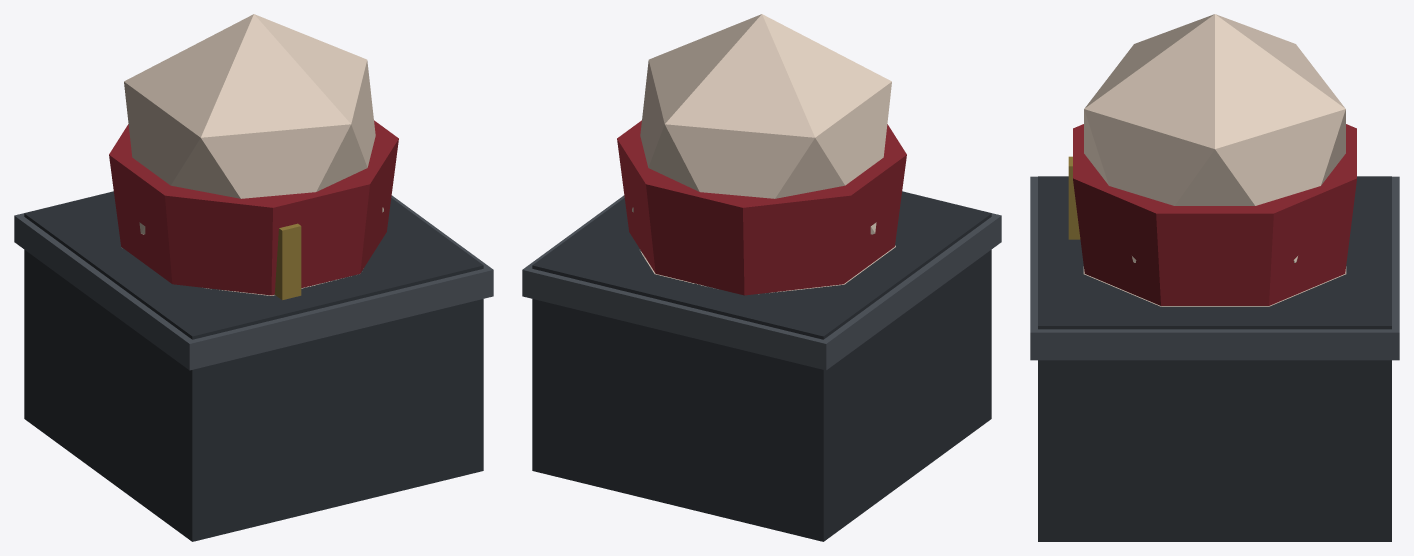
File: inf_runner_lower_leg.fbx
The picture shows the model from 3 angles, left to right: view 1: azimuth 30°, elevation 25°; view 2: azimuth 150°, elevation 25°; view 3: azimuth 270°, elevation 25°; orthographic projection. The views are drawn at different scales.
Parts seen in each view (by area): view 1: inf_runner_lower_leg; view 2: inf_runner_lower_leg; view 3: inf_runner_lower_leg.
Part boxes in pixels (x1=…): inf_runner_lower_leg: x1=14, y1=14, x2=493, y2=541; inf_runner_lower_leg: x1=522, y1=14, x2=1001, y2=541; inf_runner_lower_leg: x1=1030, y1=14, x2=1399, y2=541.
Bounding box in the file's own units: 96 × 130 × 96.
